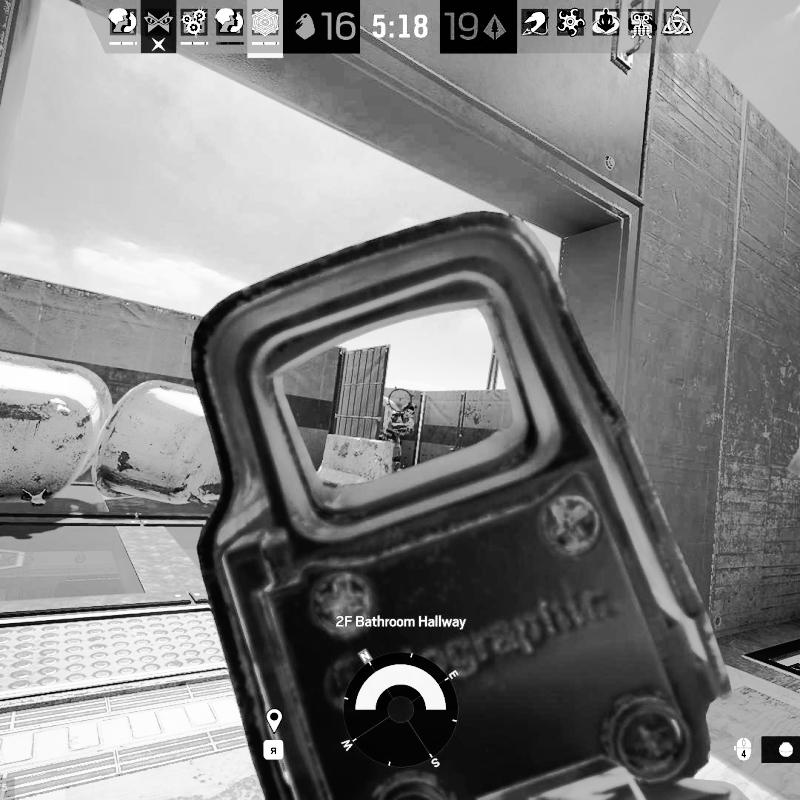Character: (379, 401, 420, 472)
Head: (403, 402, 414, 418)
